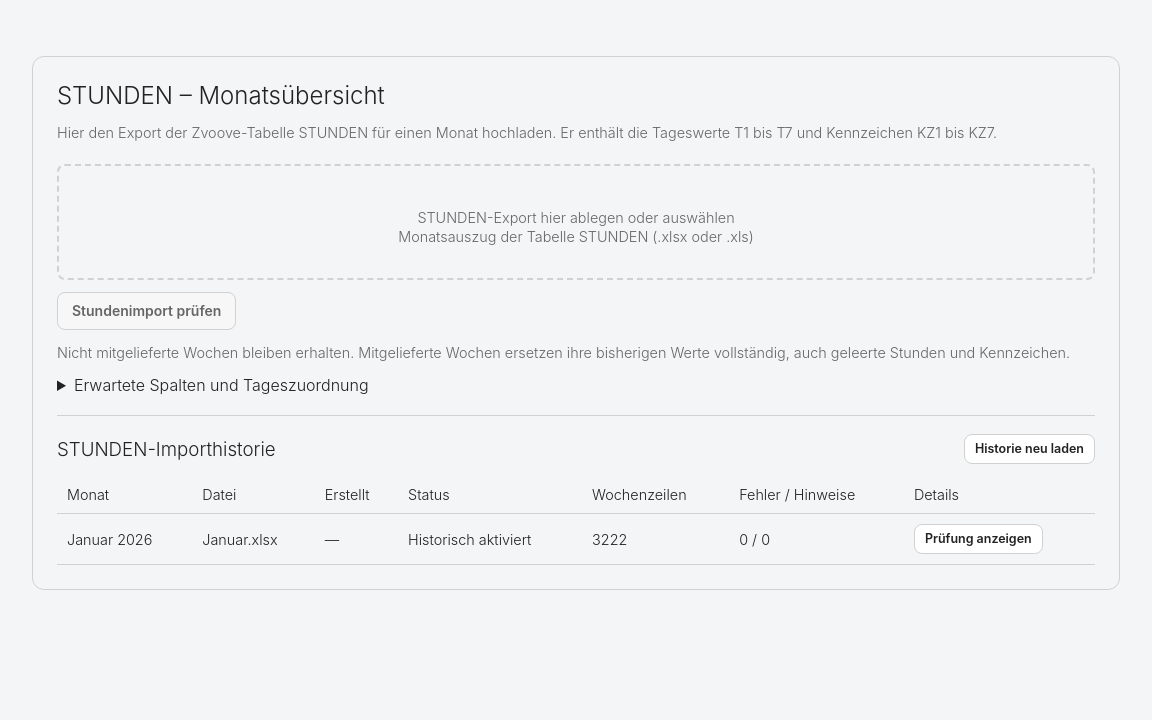
Zvoove hours import › distinguishes a previously activated import from the current monthly import without offering reactivation
Check: the table named "Frühere Stundenimporte" shows "Historisch aktiviert", box x1=408 y1=531 x2=531 y2=548
Click the button "Prüfung anzeigen". click: (978, 539)
box: x1=914 y1=524 x2=1043 y2=554
(page scrolled)
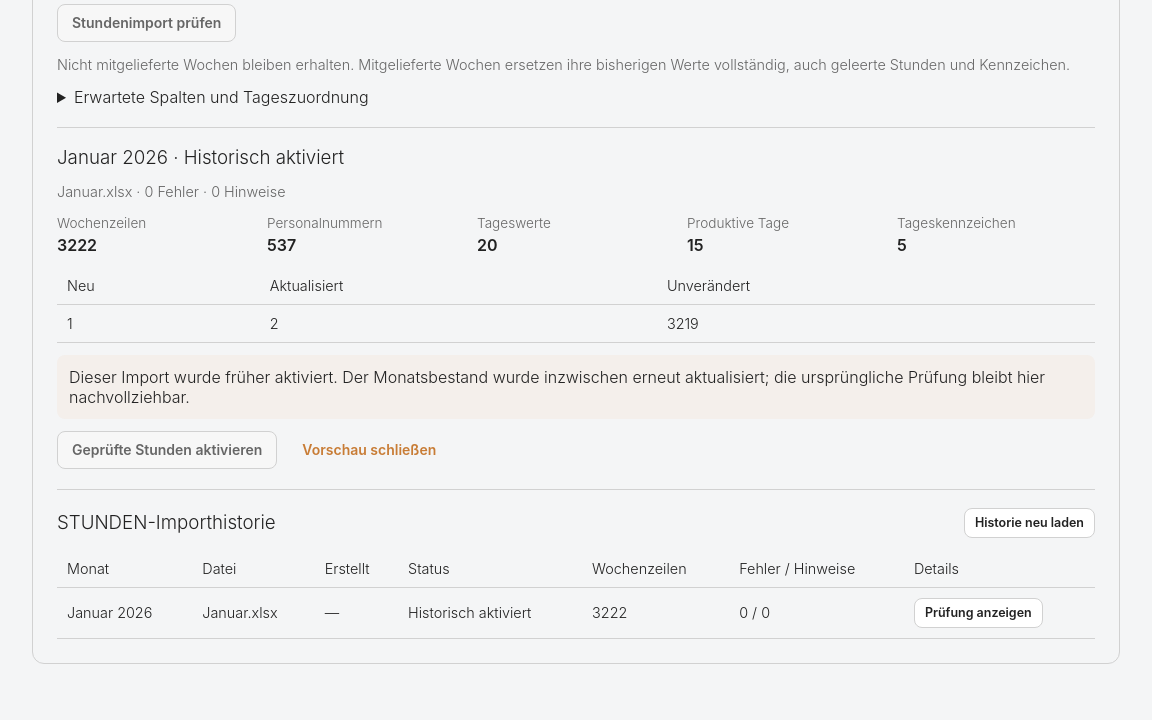
Check: the text "Der Monatsbestand wurde inzwischen erneut aktualisiert" is shown, box x1=69 y1=367 x2=1045 y2=407
Check: the button "Geprüfte Stunden aktivieren" is disabled, box x1=57 y1=431 x2=277 y2=469
